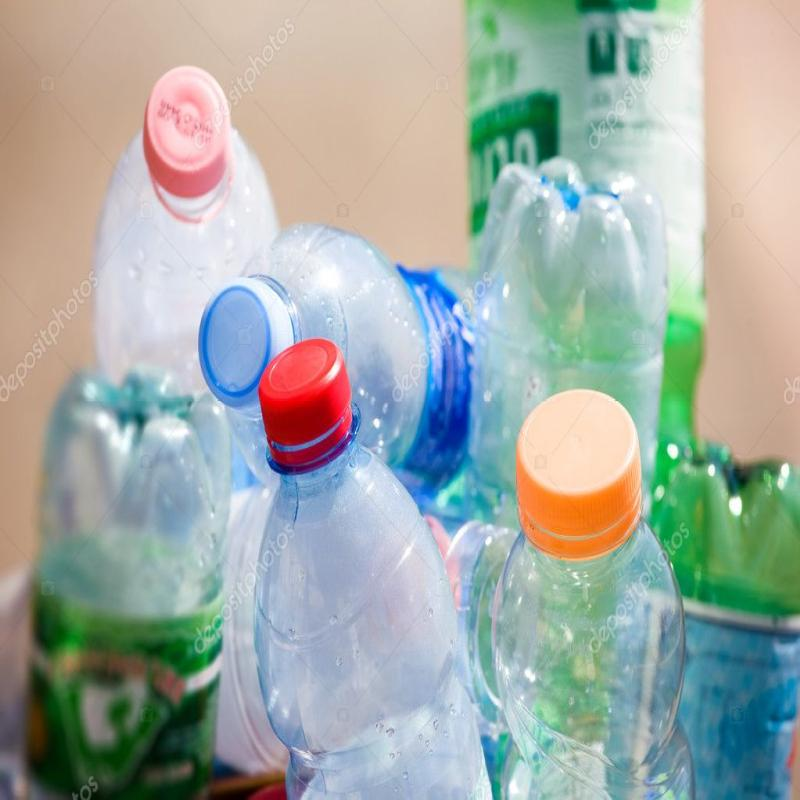botella: (457, 0, 718, 462), (252, 338, 503, 800), (495, 376, 708, 800), (27, 357, 225, 800), (196, 214, 468, 482), (96, 62, 286, 427), (473, 148, 673, 494)
